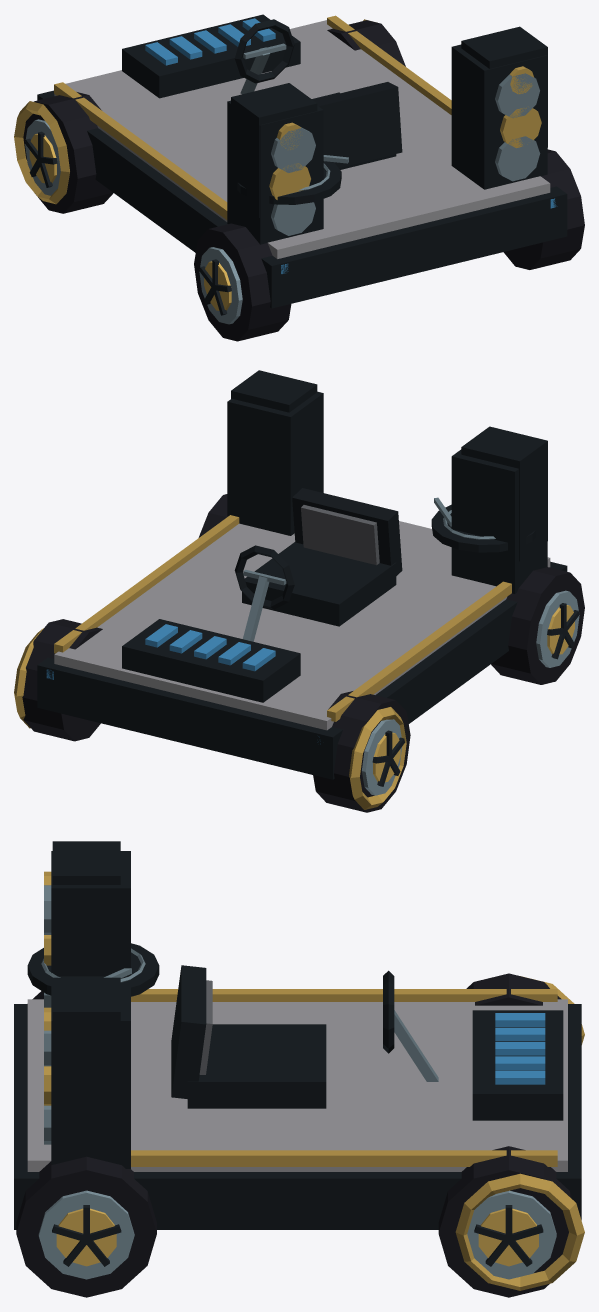
The model's file is kart.glb.
The picture shows the model from 3 angles, top to bottom: view 1: azimuth 30°, elevation 25°; view 2: azimuth 150°, elevation 25°; view 3: azimuth 270°, elevation 25°; orthographic projection. The views are drawn at different scales.
Parts seen in each view (by area): view 1: identity-stage-stage-platform-and-pa-towers, identity-stage-motif-speakers, identity-stage-driver-cockpit, wheel-rear-left, wheel-front-left, wheel-rear-right, identity-stage-motif-neon, identity-stage-motif-vinyl, wheel-front-right; view 2: identity-stage-stage-platform-and-pa-towers, identity-stage-driver-cockpit, wheel-rear-left, identity-stage-motif-speakers, wheel-front-left, wheel-front-right, identity-stage-motif-neon, identity-stage-motif-vinyl; view 3: identity-stage-stage-platform-and-pa-towers, identity-stage-driver-cockpit, wheel-rear-right, identity-stage-motif-speakers, wheel-front-right, identity-stage-motif-neon, identity-stage-motif-vinyl, wheel-front-left.
Boxes of the visible parts, left/top/right/bottom form: identity-stage-stage-platform-and-pa-towers: left=37, top=14, right=567, bottom=308; identity-stage-motif-speakers: left=231, top=26, right=547, bottom=217; identity-stage-driver-cockpit: left=234, top=19, right=402, bottom=169; wheel-rear-left: left=194, top=223, right=291, bottom=341; wheel-front-left: left=23, top=92, right=113, bottom=213; wheel-rear-right: left=503, top=149, right=584, bottom=269; identity-stage-motif-neon: left=14, top=19, right=557, bottom=273; identity-stage-motif-vinyl: left=237, top=155, right=348, bottom=204; wheel-front-right: left=327, top=20, right=405, bottom=66; identity-stage-stage-platform-and-pa-towers: left=37, top=391, right=567, bottom=779; identity-stage-driver-cockpit: left=234, top=488, right=402, bottom=641; wheel-rear-left: left=491, top=567, right=584, bottom=684; identity-stage-motif-speakers: left=231, top=370, right=547, bottom=561; wheel-front-left: left=313, top=691, right=410, bottom=812; wheel-front-right: left=22, top=619, right=102, bottom=741; identity-stage-motif-neon: left=14, top=628, right=406, bottom=809; identity-stage-motif-vinyl: left=431, top=497, right=535, bottom=552; identity-stage-stage-platform-and-pa-towers: left=14, top=851, right=581, bottom=1229; identity-stage-driver-cockpit: left=171, top=965, right=438, bottom=1108; wheel-rear-right: left=16, top=1156, right=156, bottom=1297; identity-stage-motif-speakers: left=44, top=841, right=120, bottom=1133; wheel-front-right: left=438, top=1146, right=571, bottom=1297; identity-stage-motif-neon: left=455, top=976, right=584, bottom=1290; identity-stage-motif-vinyl: left=27, top=943, right=159, bottom=996; wheel-front-left: left=466, top=973, right=561, bottom=1005.
Size of the model in its own units: 2.16 by 1.33 by 2.51.
